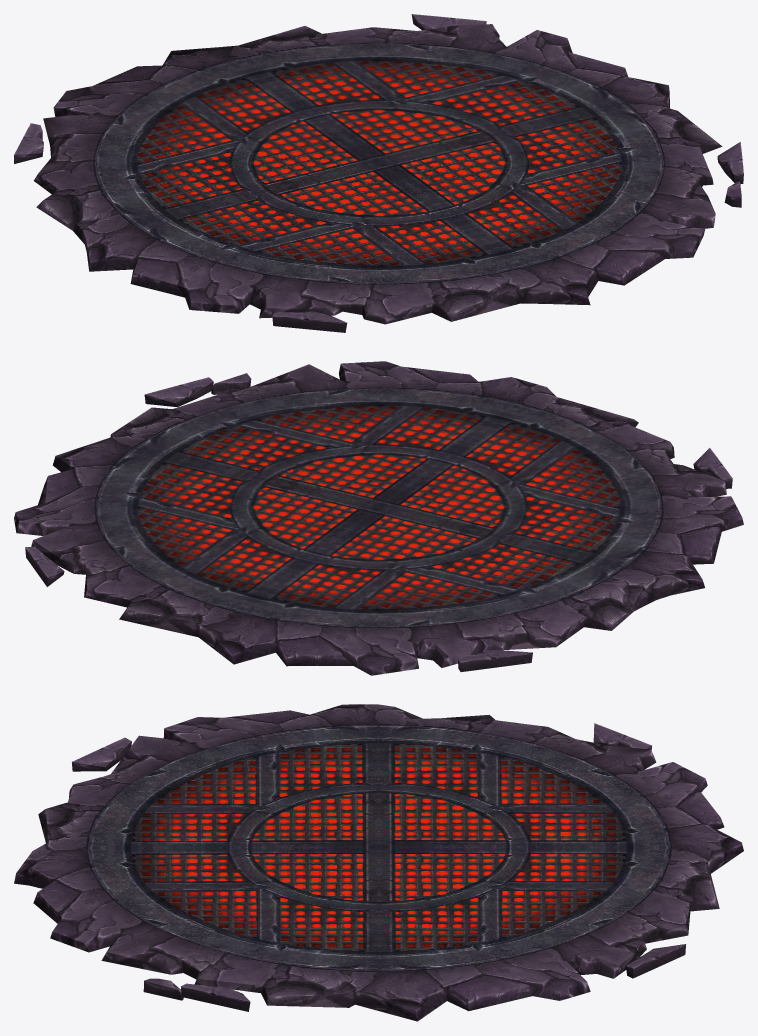
The model's file is Altar01_Hell_001.FBX.
The picture shows the model from 3 angles, top to bottom: view 1: azimuth 30°, elevation 25°; view 2: azimuth 150°, elevation 25°; view 3: azimuth 270°, elevation 25°; orthographic projection. The views are drawn at different scales.
Visible parts, largest first — view 1: Altar01_Hell_001; view 2: Altar01_Hell_001; view 3: Altar01_Hell_001.
Part boxes in pixels (x1=…): Altar01_Hell_001: x1=14, y1=14, x2=743, y2=332; Altar01_Hell_001: x1=14, y1=361, x2=743, y2=675; Altar01_Hell_001: x1=14, y1=704, x2=743, y2=1021.
Bounding box in the file's own units: 1147 × 37.57 × 1147.
1 material, 1 textured.
